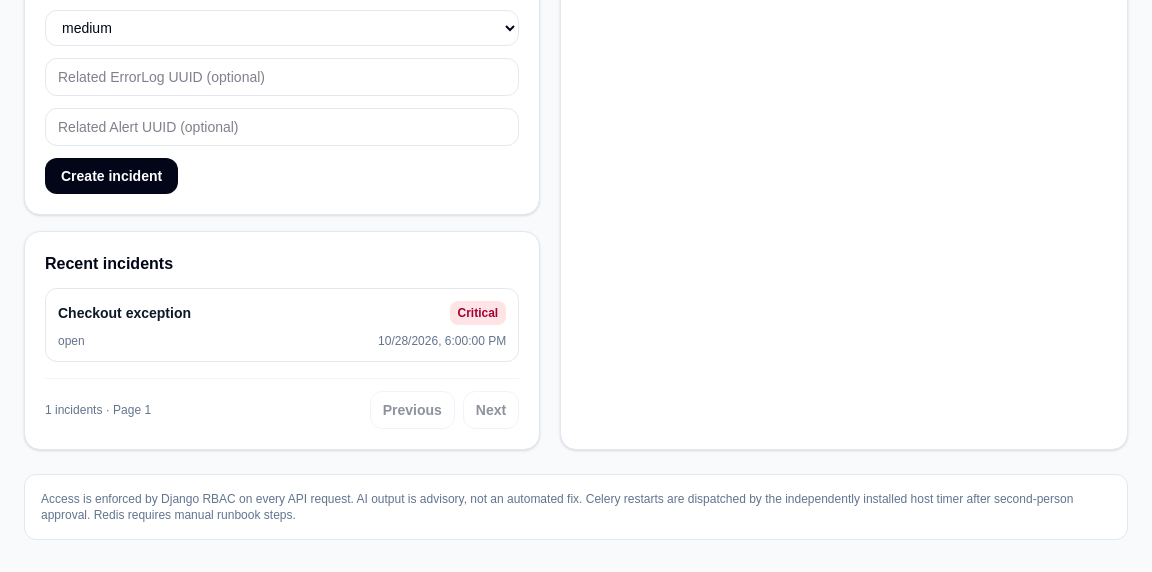
Test: Incident and operations workbench › renders queued, succeeded, failed AI outputs without running them automatically
The width and height of the screenshot is (1152, 572).
(page scrolled)
Click the button "Checkout exception critical open 10/28/2026, 6:00:00 PM": (125, 313) [45, 288, 519, 362]
(page scrolled)
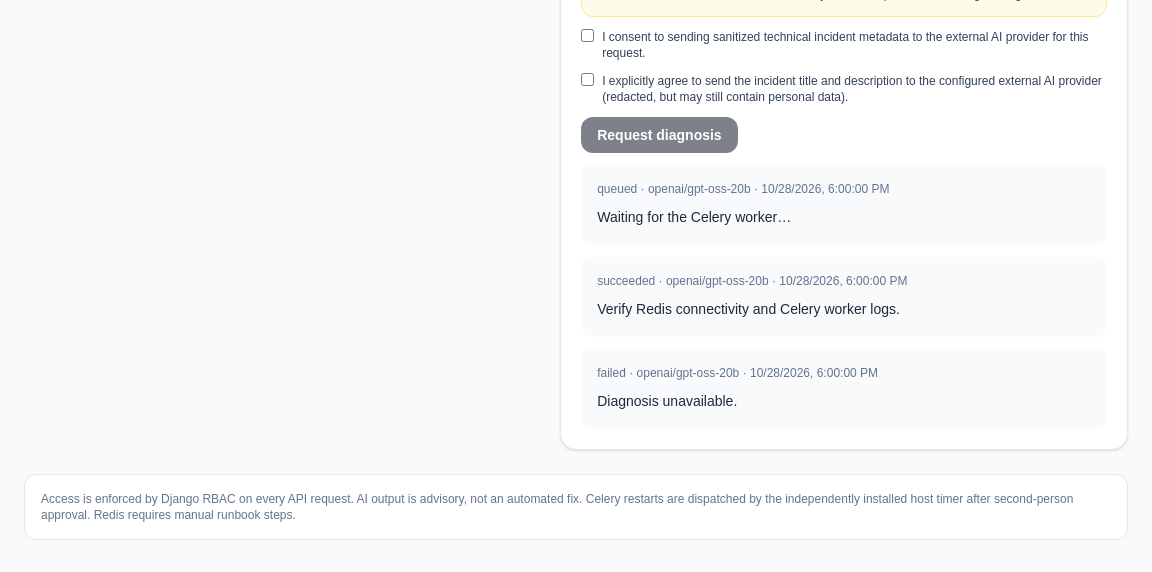
Expected: the text "Waiting for the Celery worker…" is shown, [597, 209, 791, 225]
Expected: the text "Verify Redis connectivity and Celery worker logs." is shown, [597, 301, 900, 317]
Expected: the text "Diagnosis unavailable." is shown, [597, 393, 737, 409]
